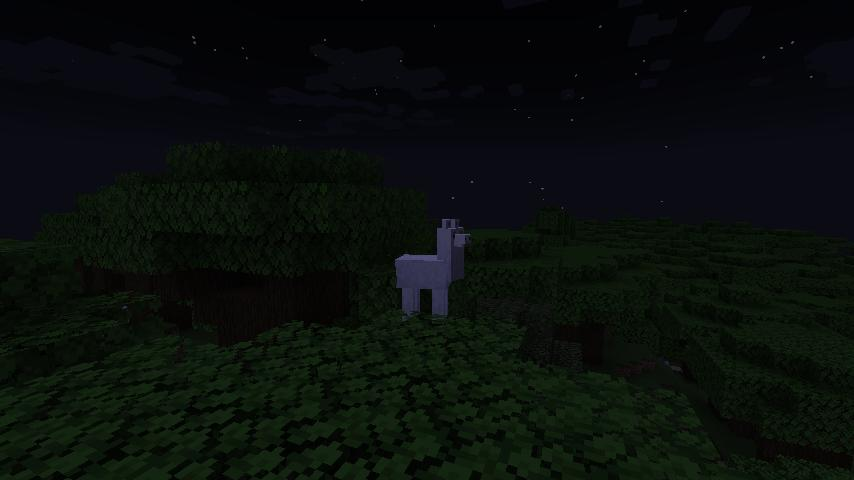llama: (392, 216, 474, 323)
